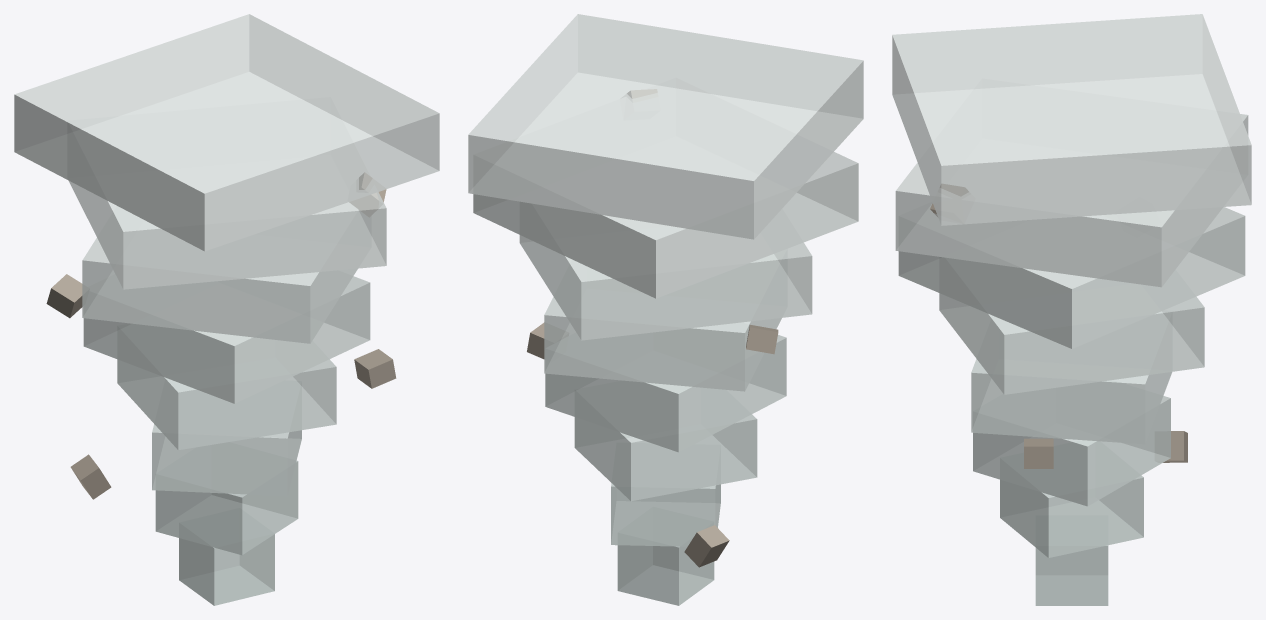
File: Tornado.fbx
The picture shows the model from 3 angles, left to right: view 1: azimuth 30°, elevation 25°; view 2: azimuth 150°, elevation 25°; view 3: azimuth 270°, elevation 25°; orthographic projection. The views are drawn at different scales.
Parts seen in each view (by area): view 1: Twister_Layer.007, Twister_Layer.006, Twister_Layer.004, Twister_Layer.005, Twister_Layer.003, Twister_Layer.002, Twister_Layer.001, Twister_Layer, Twister_Debris, Twister_Debris.001, Twister_Debris.003, Twister_Debris.002; view 2: Twister_Layer.007, Twister_Layer.006, Twister_Layer.005, Twister_Layer.003, Twister_Layer.004, Twister_Layer.002, Twister_Layer.001, Twister_Layer, Twister_Debris.003, Twister_Debris.001; view 3: Twister_Layer.007, Twister_Layer.005, Twister_Layer.006, Twister_Layer.004, Twister_Layer.003, Twister_Layer.002, Twister_Layer.001, Twister_Layer, Twister_Debris, Twister_Debris.003.
Boxes of the visible parts, bbox=[...] form: Twister_Layer.007: bbox=[14, 14, 439, 251]; Twister_Layer.006: bbox=[68, 180, 386, 289]; Twister_Layer.004: bbox=[83, 276, 370, 403]; Twister_Layer.005: bbox=[82, 237, 357, 343]; Twister_Layer.003: bbox=[117, 359, 336, 450]; Twister_Layer.002: bbox=[152, 424, 301, 496]; Twister_Layer.001: bbox=[155, 460, 298, 555]; Twister_Layer: bbox=[179, 534, 274, 605]; Twister_Debris: bbox=[354, 349, 396, 388]; Twister_Debris.001: bbox=[46, 274, 82, 318]; Twister_Debris.003: bbox=[70, 454, 111, 499]; Twister_Debris.002: bbox=[349, 172, 386, 217]; Twister_Layer.007: bbox=[468, 14, 863, 239]; Twister_Layer.006: bbox=[473, 152, 858, 298]; Twister_Layer.005: bbox=[519, 235, 812, 340]; Twister_Layer.003: bbox=[545, 334, 786, 452]; Twister_Layer.004: bbox=[544, 297, 781, 391]; Twister_Layer.002: bbox=[574, 414, 757, 501]; Twister_Layer.001: bbox=[611, 483, 720, 546]; Twister_Layer: bbox=[617, 545, 714, 605]; Twister_Debris.003: bbox=[684, 525, 729, 567]; Twister_Debris.001: bbox=[746, 324, 778, 354]; Twister_Layer.007: bbox=[892, 14, 1251, 225]; Twister_Layer.005: bbox=[898, 207, 1245, 348]; Twister_Layer.006: bbox=[895, 114, 1248, 287]; Twister_Layer.004: bbox=[939, 293, 1204, 394]; Twister_Layer.003: bbox=[971, 359, 1172, 444]; Twister_Layer.002: bbox=[973, 396, 1170, 506]; Twister_Layer.001: bbox=[1000, 475, 1143, 557]; Twister_Layer: bbox=[1035, 545, 1108, 605]; Twister_Debris: bbox=[1024, 438, 1053, 468]; Twister_Debris.003: bbox=[1163, 431, 1187, 462].
Bounding box in the file's own units: 304 × 468 × 304.
